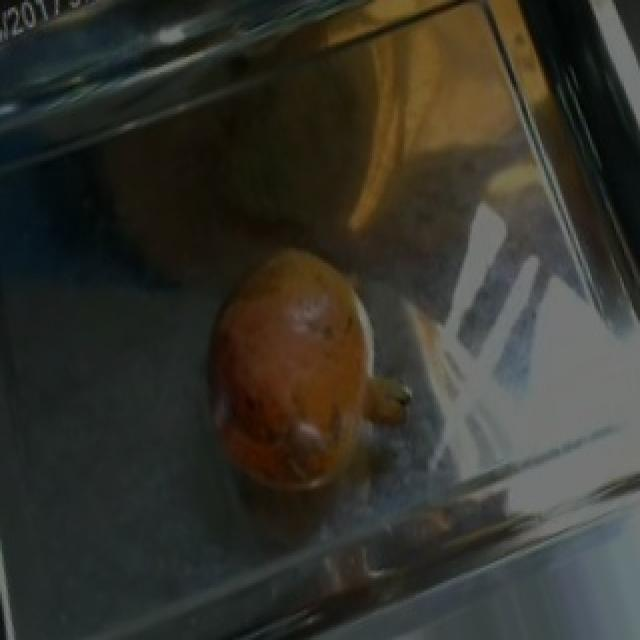fruit: (186, 223, 422, 504)
